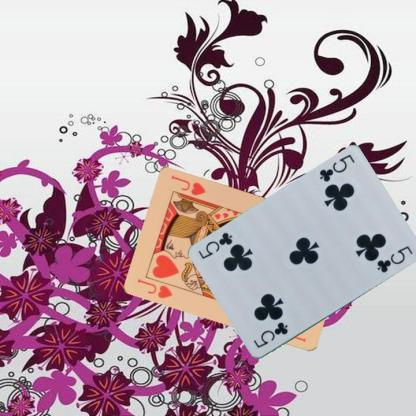5c: (317, 152, 356, 184), (250, 320, 290, 350)
Jh: (135, 275, 174, 300)
